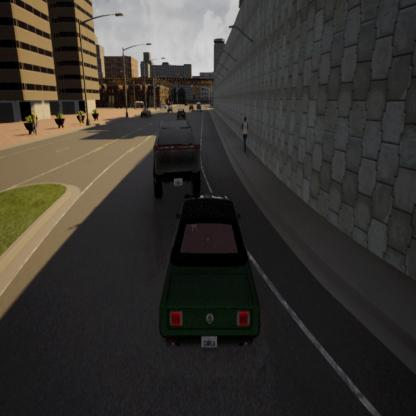Cars: (158, 195, 261, 350), (154, 118, 200, 196), (141, 108, 151, 118), (187, 101, 194, 113), (177, 107, 184, 119), (196, 101, 201, 112), (168, 105, 173, 113)
Pedestrian: (242, 114, 250, 155), (31, 115, 38, 140), (79, 112, 84, 127), (34, 111, 38, 122)
